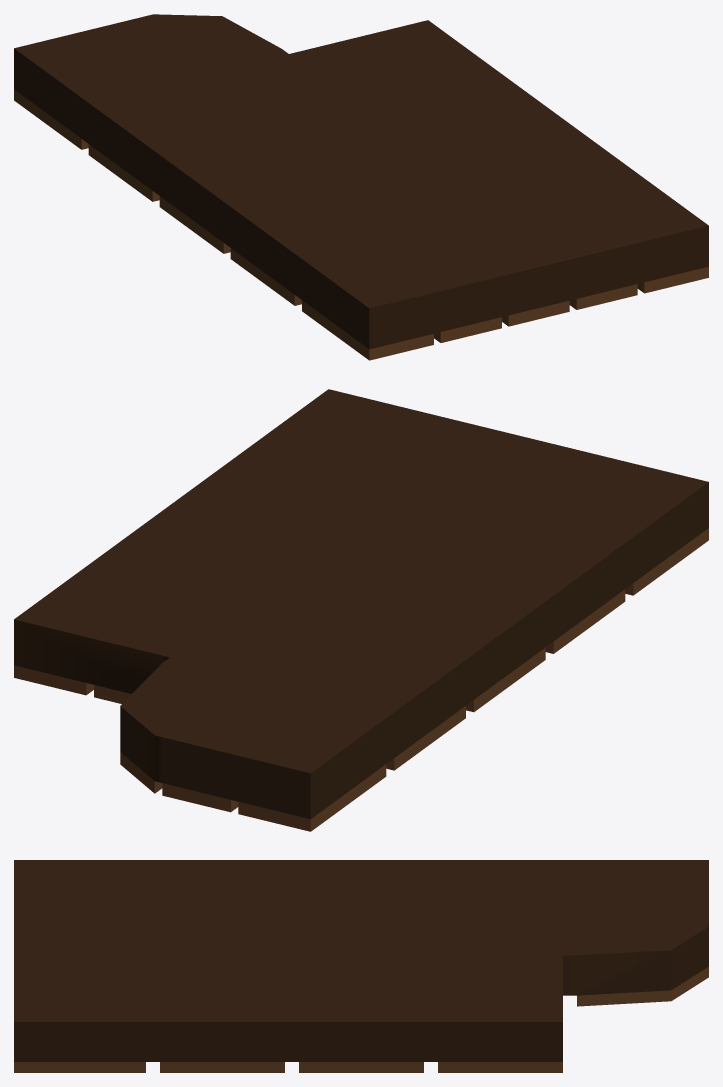
The model's file is schokolade.fbx.
3 views of the same model, one above another, from view 1: azimuth 30°, elevation 25°; view 2: azimuth 150°, elevation 25°; view 3: azimuth 270°, elevation 25° (orthographic). The views are drawn at different scales.
Visible parts, largest first — view 1: pCube16; view 2: pCube16; view 3: pCube16.
Boxes of the visible parts, x1,y1,x2,y2 form: pCube16: [14, 14, 708, 360]; pCube16: [14, 389, 708, 831]; pCube16: [14, 860, 708, 1072].
Size of the model in its own units: 15.24 by 2.24 by 27.64.
